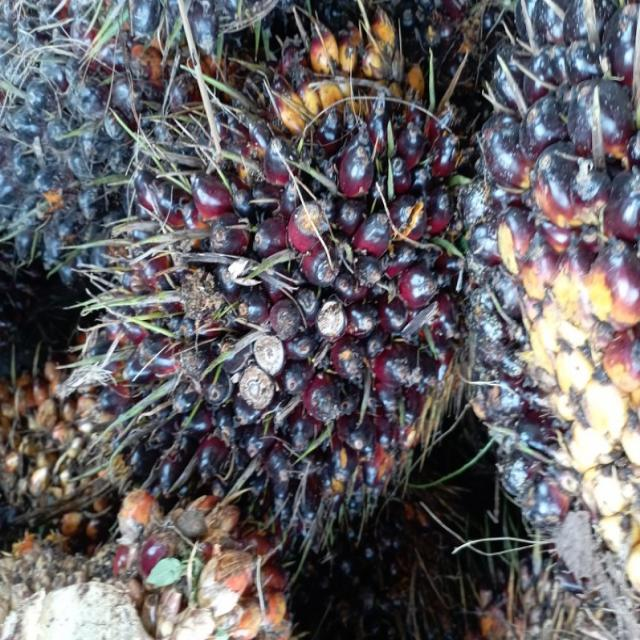fraksi 00: (84, 43, 472, 514)
